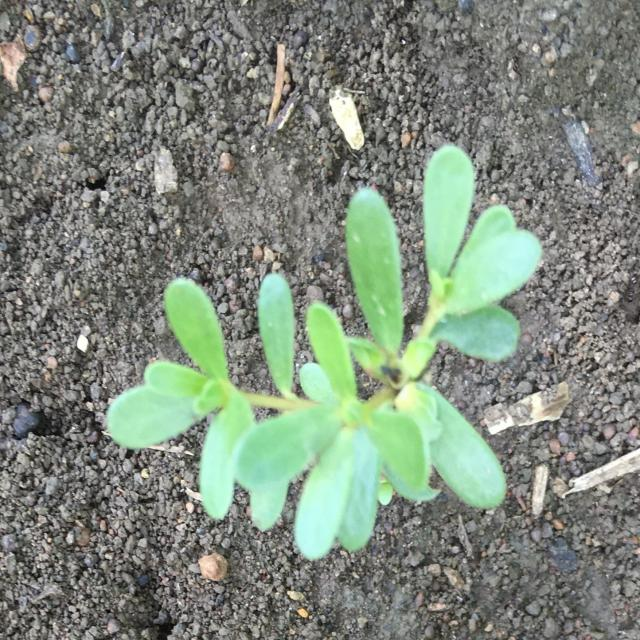Purslane: (106, 146, 542, 560)
